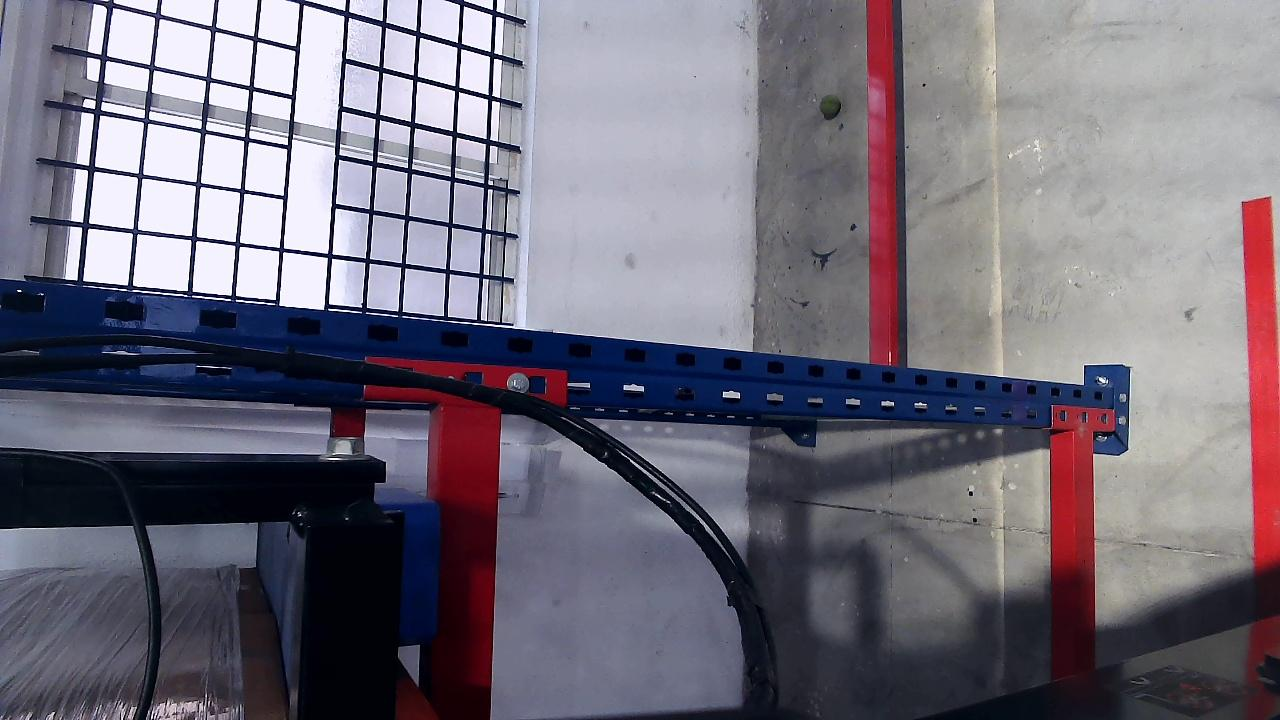h_rack: (435, 402, 503, 686), (1049, 432, 1089, 679)
red_line: (1241, 197, 1279, 567)
